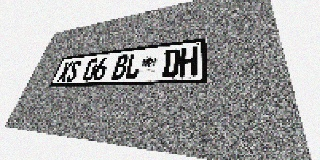0: (82, 58, 99, 81)
6: (92, 57, 110, 81)
B: (111, 54, 129, 80)
D: (162, 48, 180, 77)
H: (179, 46, 198, 77)
L: (124, 53, 142, 79)
S: (65, 60, 82, 82)
X: (56, 61, 74, 82)
